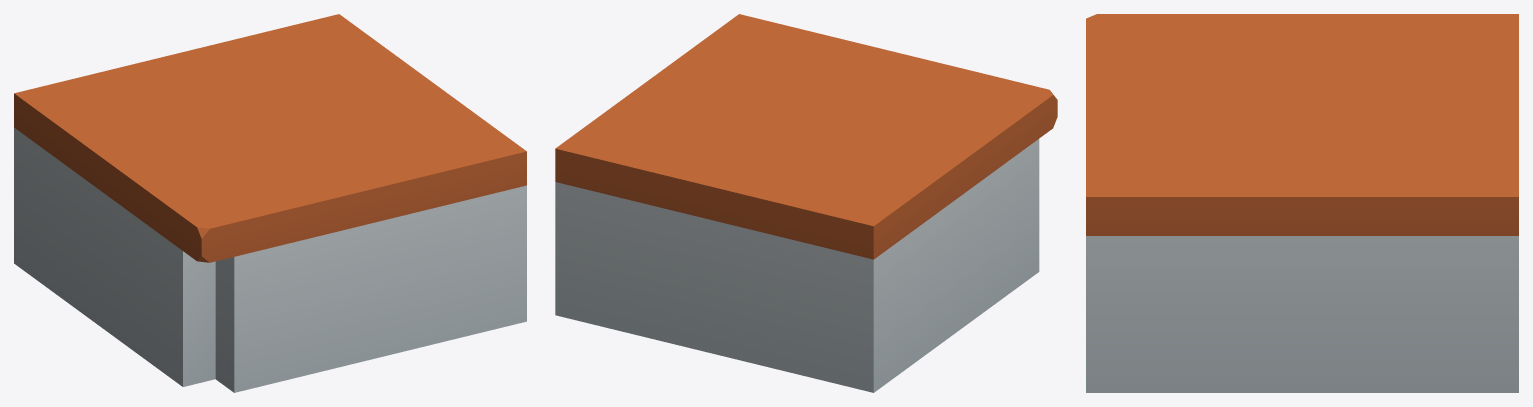
The model's file is kitchencounter_innercorner.obj.
The picture shows the model from 3 angles, left to right: view 1: azimuth 30°, elevation 25°; view 2: azimuth 150°, elevation 25°; view 3: azimuth 270°, elevation 25°; orthographic projection. The views are drawn at different scales.
Visible parts, largest first — view 1: kitchencounter_innercorner_Cube.898; view 2: kitchencounter_innercorner_Cube.898; view 3: kitchencounter_innercorner_Cube.898.
Boxes of the visible parts, left/top/right/bottom form: kitchencounter_innercorner_Cube.898: left=14, top=14, right=526, bottom=392; kitchencounter_innercorner_Cube.898: left=555, top=14, right=1057, bottom=392; kitchencounter_innercorner_Cube.898: left=1086, top=14, right=1518, bottom=392.
Size of the model in its own units: 2 by 1 by 2.
1 material, 1 textured.
